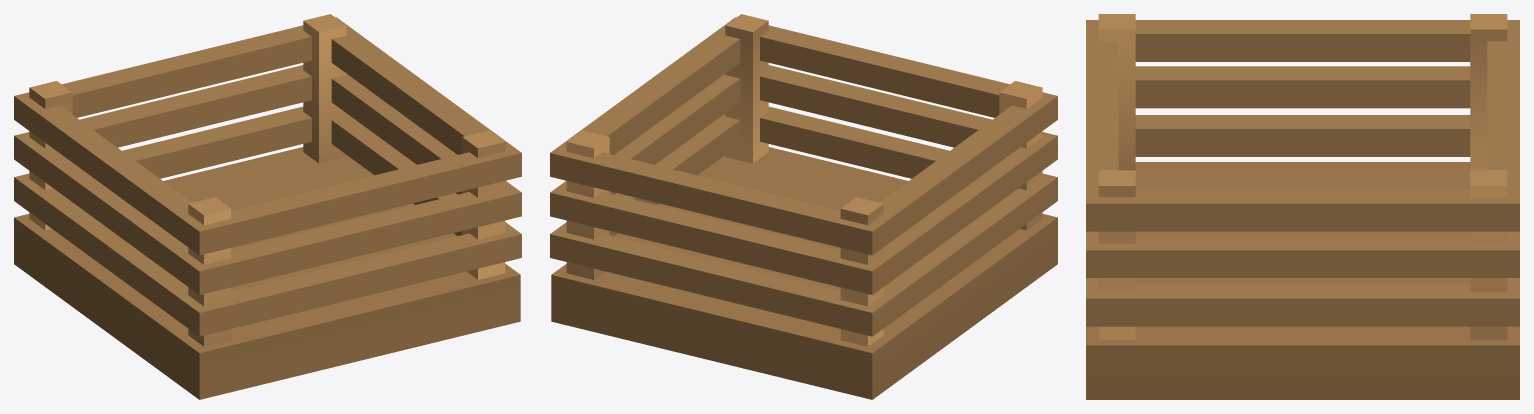
The model's file is Fruit_Case.fbx.
The picture shows the model from 3 angles, left to right: view 1: azimuth 30°, elevation 25°; view 2: azimuth 150°, elevation 25°; view 3: azimuth 270°, elevation 25°; orthographic projection. The views are drawn at different scales.
Visible parts, largest first — view 1: Fruit_Case; view 2: Fruit_Case; view 3: Fruit_Case.
Part boxes in pixels (<box>): Fruit_Case: <box>14,14,521,399</box>; Fruit_Case: <box>550,14,1057,399</box>; Fruit_Case: <box>1086,14,1519,399</box>.
Size of the model in its own units: 50.36 by 26.6 by 50.17.
